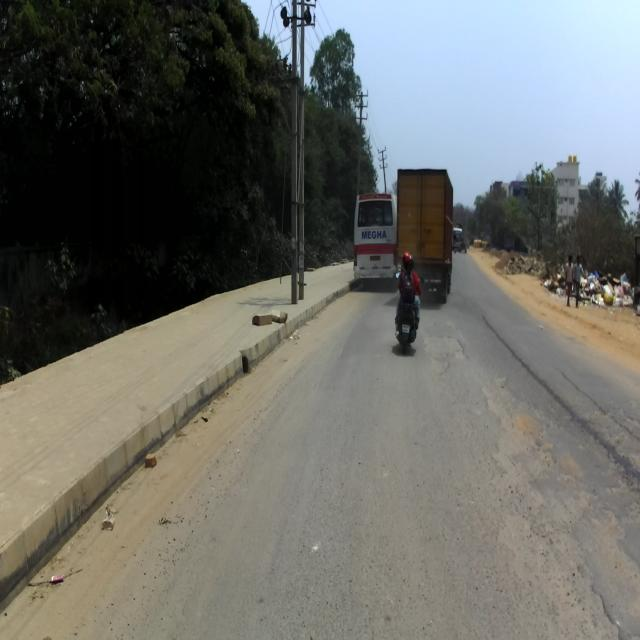bus ahead at: (353, 192, 394, 282)
electric pole ahead at: (274, 0, 310, 307)
truck ahead at: (394, 164, 454, 302)
